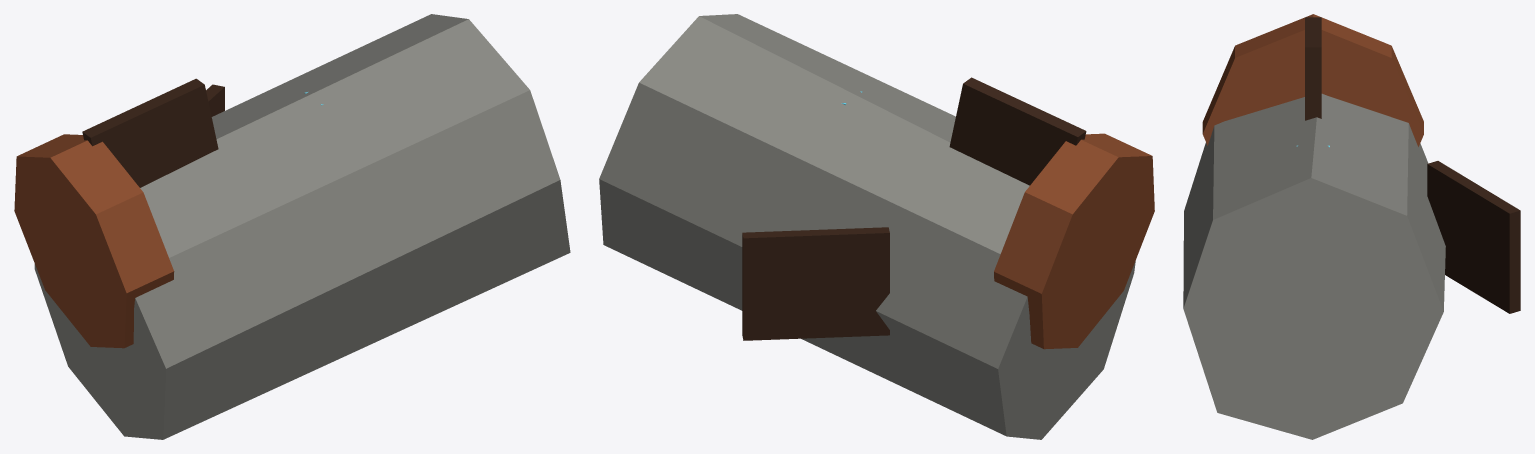
Rendered from escape_pod.glb.
3 renders of one model, left to right at view 1: azimuth 30°, elevation 25°; view 2: azimuth 150°, elevation 25°; view 3: azimuth 270°, elevation 25°, orthographic. The views are drawn at different scales.
Parts seen in each view (by area): view 1: escape_pod; view 2: escape_pod; view 3: escape_pod.
Boxes of the visible parts, box(x1,y1,x2,y2) form: escape_pod: box(14, 14, 570, 439); escape_pod: box(599, 14, 1154, 439); escape_pod: box(1183, 14, 1520, 439).
Size of the model in its own units: 4.85 by 3.32 by 3.05.
